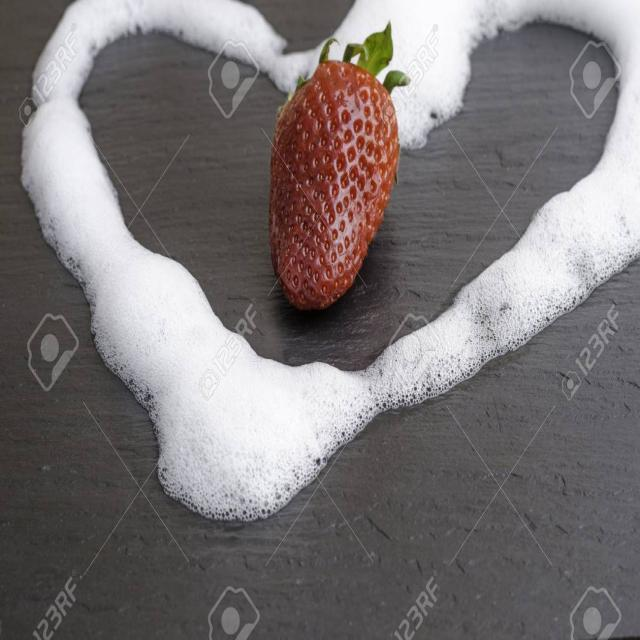strawberry: (255, 12, 421, 320)
